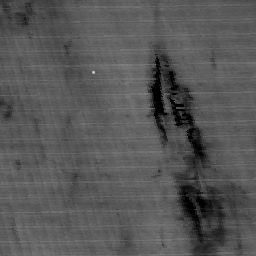Target: (90, 69, 96, 76)
